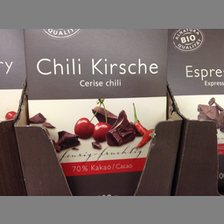chocolate: (24, 29, 168, 175)
